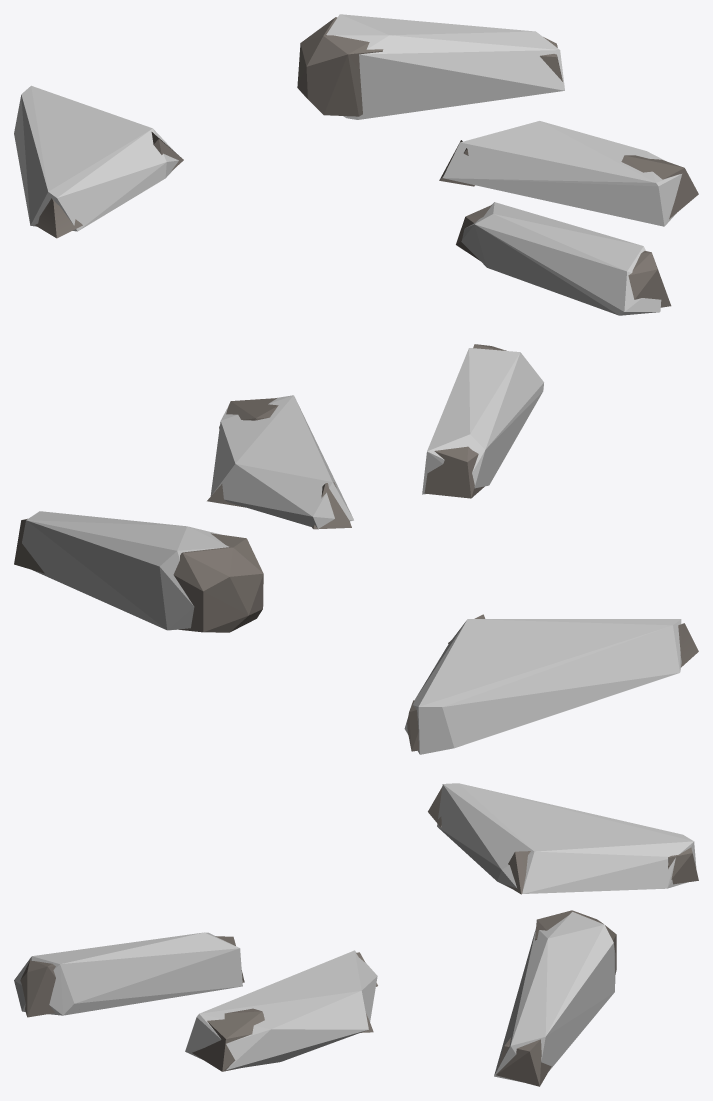
The model's file is SM_Env_Pebbles_03.fbx.
3 views of the same model, one above another, from view 1: azimuth 30°, elevation 25°; view 2: azimuth 150°, elevation 25°; view 3: azimuth 270°, elevation 25° (orthographic). The views are drawn at different scales.
Visible parts, largest first — view 1: SM_Env_Pebbles_03_ConvexHulls, SM_Env_Pebbles_03; view 2: SM_Env_Pebbles_03_ConvexHulls, SM_Env_Pebbles_03; view 3: SM_Env_Pebbles_03_ConvexHulls, SM_Env_Pebbles_03.
Part boxes in pixels (x1=…): SM_Env_Pebbles_03_ConvexHulls: x1=14, y1=14, x2=681, y2=315; SM_Env_Pebbles_03: x1=35, y1=17, x2=698, y2=307; SM_Env_Pebbles_03_ConvexHulls: x1=22, y1=348, x2=681, y2=754; SM_Env_Pebbles_03: x1=14, y1=344, x2=698, y2=751; SM_Env_Pebbles_03_ConvexHulls: x1=14, y1=783, x2=696, y2=1082; SM_Env_Pebbles_03: x1=20, y1=787, x2=698, y2=1086.
Size of the model in its own units: 256 by 282 by 36.3.
Materials: 2 (1 with a texture image).
